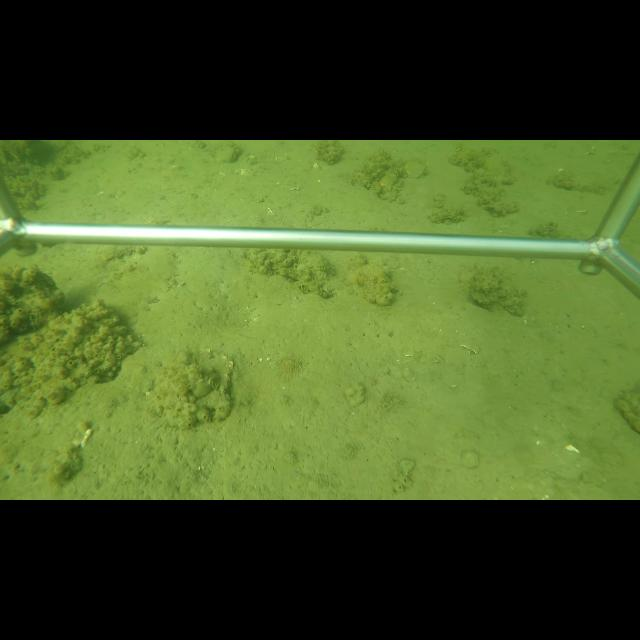Oyster-Closed: (405, 158, 428, 180), (216, 144, 240, 163)
